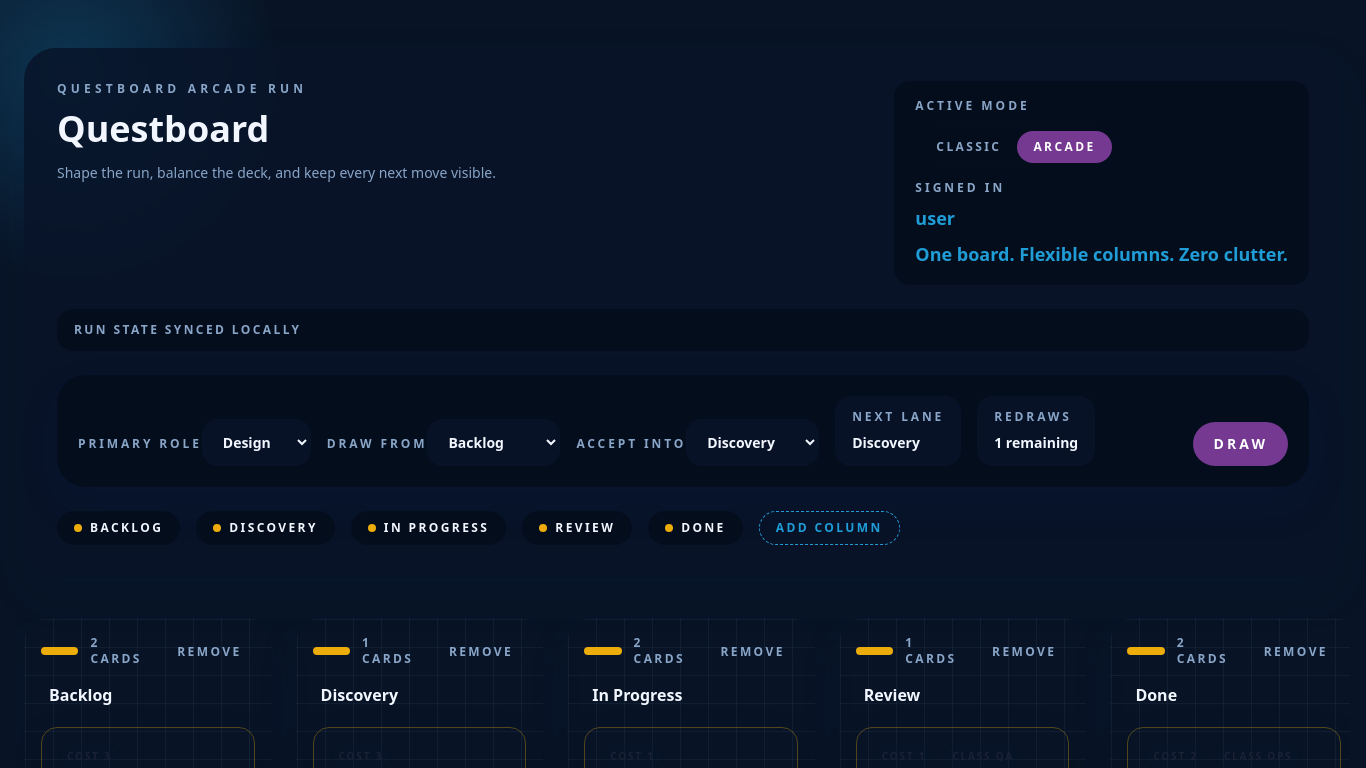
Test case: KanbanBoard › shows a no-match state instead of drawing off-role work
The image size is (1366, 768).
Click the button "Draw". click: click(1241, 444)
box: x1=1193 y1=422 x2=1288 y2=466
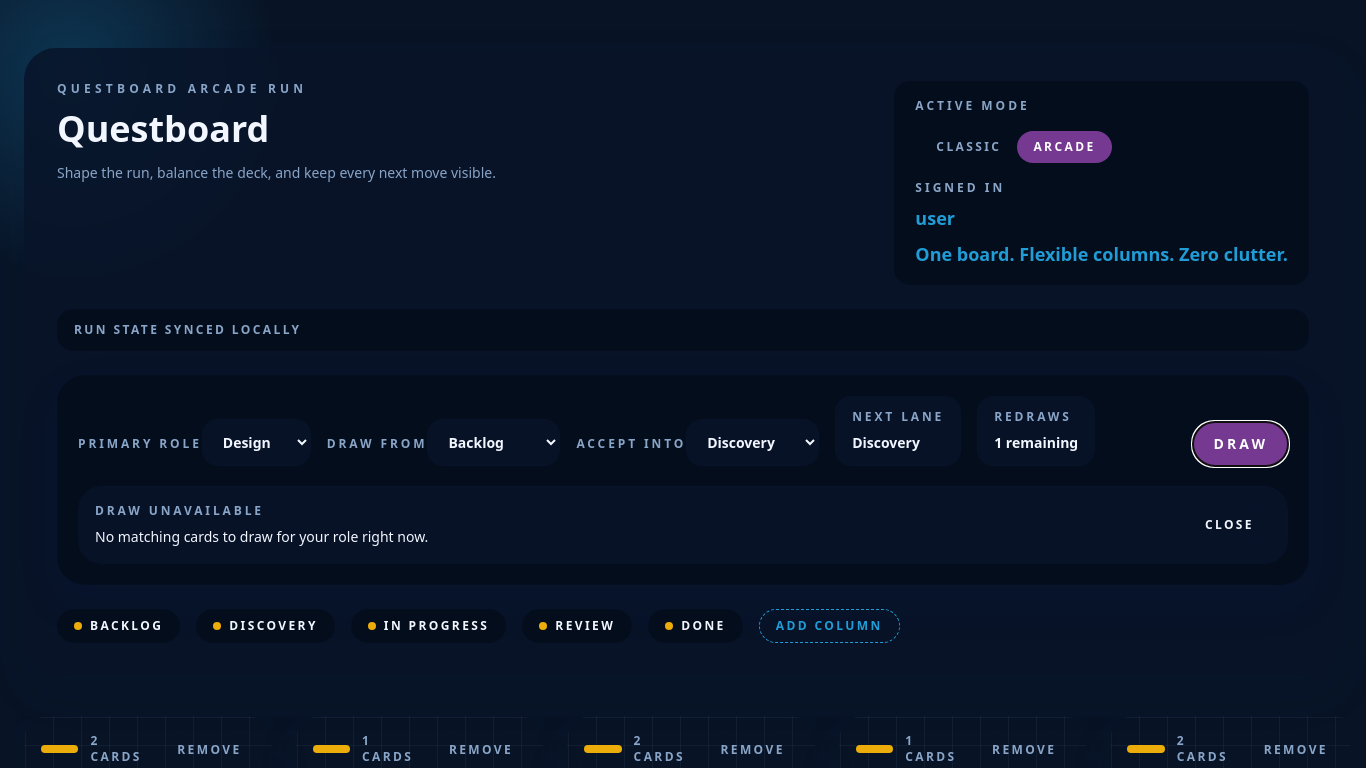
Now the text "No matching cards to draw for your role right now." is shown, box x1=95 y1=527 x2=428 y2=547
